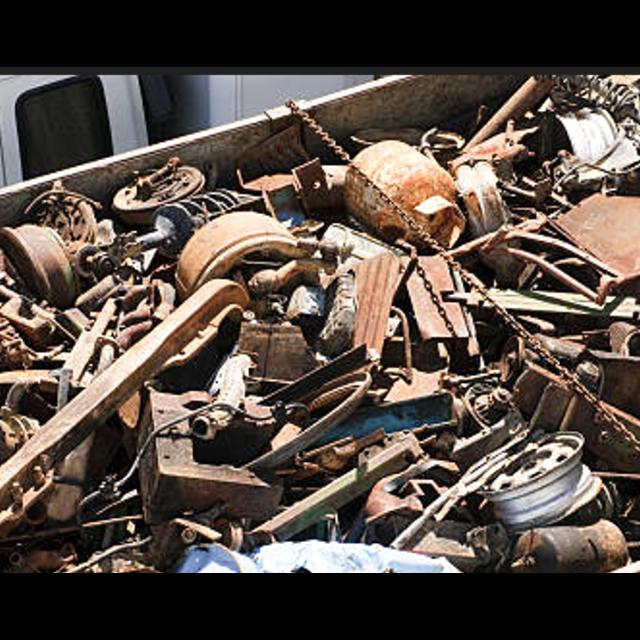Cylinders: (339, 132, 472, 253)
